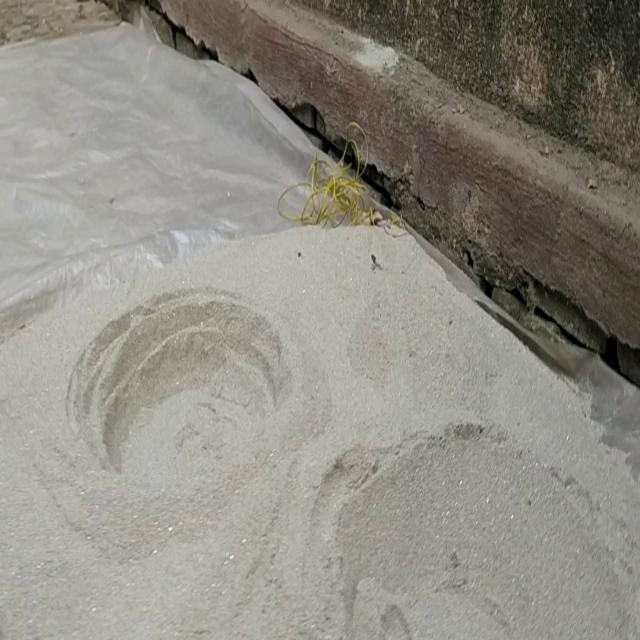C20: (335, 422, 618, 638), (72, 295, 280, 494)
